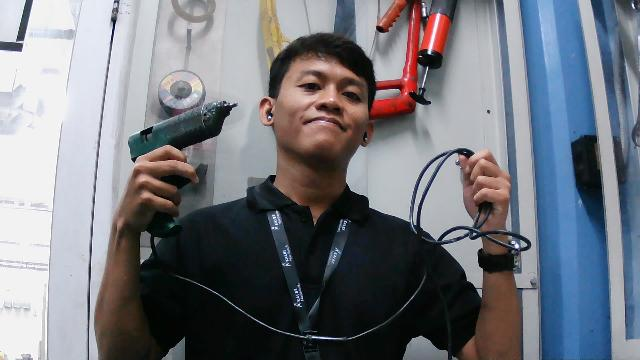gun_lem: (121, 98, 242, 240)
